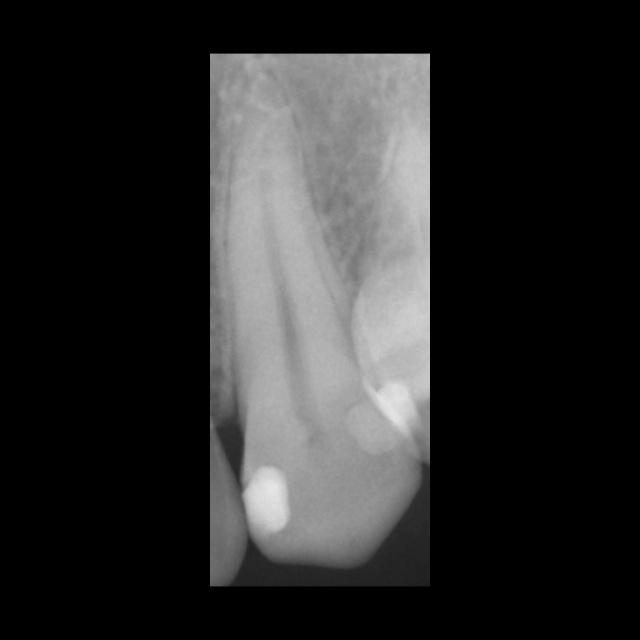tooth: (223, 68, 425, 566)
